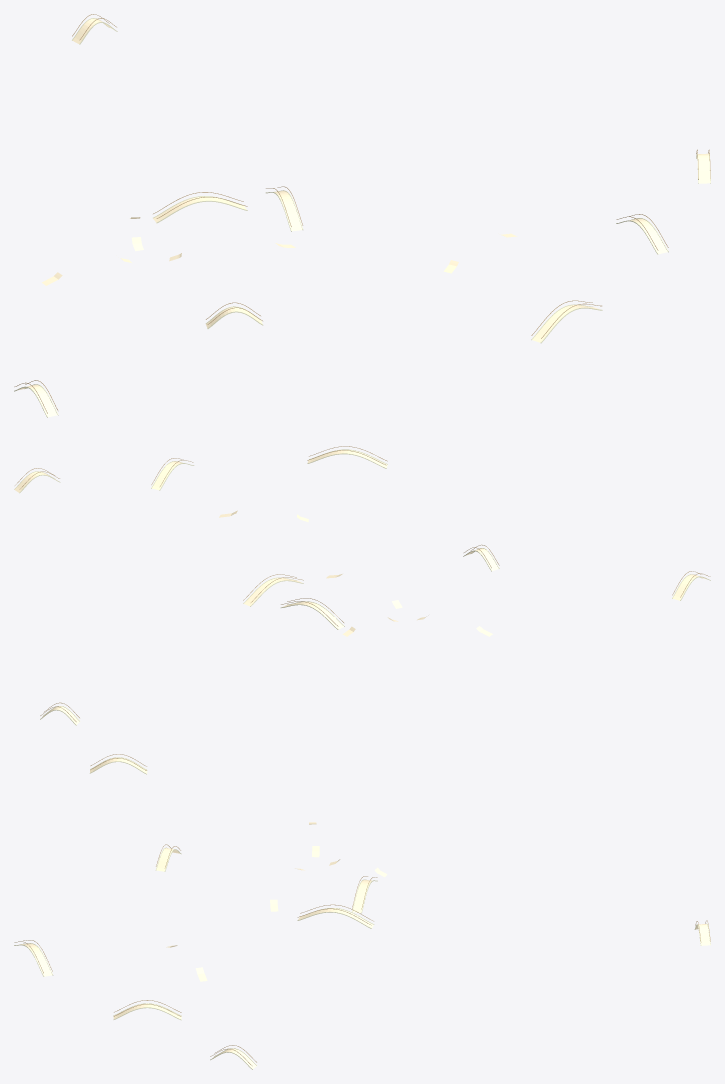
Rendered from walking-town.glb.
3 renders of one model, top to bottom at view 1: azimuth 30°, elevation 25°; view 2: azimuth 150°, elevation 25°; view 3: azimuth 270°, elevation 25°, orthographic. The views are drawn at different scales.
Visible parts, largest first — view 1: SM_Walking_Path, SM_Walking_Stone, SM_Walking_Wood; view 2: SM_Walking_Path, SM_Walking_Stone, SM_Walking_Wood; view 3: SM_Walking_Path, SM_Walking_Stone, SM_Walking_Wood.
Boxes of the visible parts, left/top/right/bottom form: SM_Walking_Path: left=18, top=18, right=710, bottom=417; SM_Walking_Stone: left=14, top=18, right=710, bottom=417; SM_Walking_Wood: left=14, top=14, right=710, bottom=413; SM_Walking_Path: left=14, top=450, right=706, bottom=724; SM_Walking_Stone: left=14, top=449, right=710, bottom=725; SM_Walking_Wood: left=15, top=446, right=710, bottom=721; SM_Walking_Path: left=18, top=757, right=710, bottom=1068; SM_Walking_Stone: left=14, top=757, right=710, bottom=1069; SM_Walking_Wood: left=14, top=754, right=710, bottom=1065.
Bounding box in the file's own units: 165 × 4.1 × 162.
